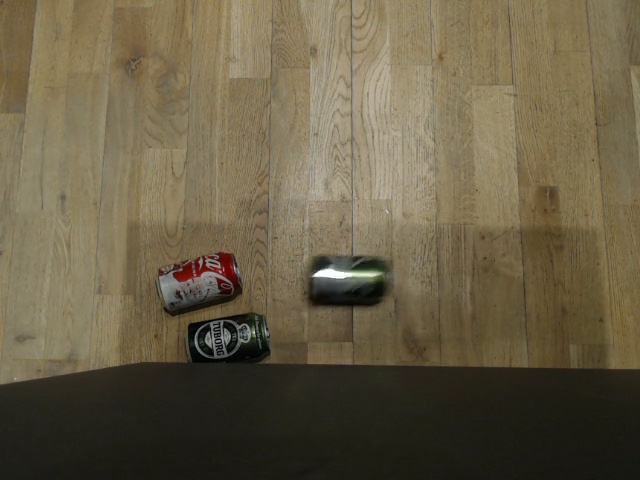beer: (298, 246, 397, 311), (178, 313, 267, 365)
cola: (150, 246, 242, 307)
